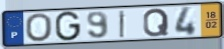4: (174, 5, 198, 37)
9: (86, 10, 110, 40)
G: (54, 10, 82, 42)
I: (118, 9, 127, 39)
O: (24, 12, 54, 43)
Q: (142, 7, 171, 38)
